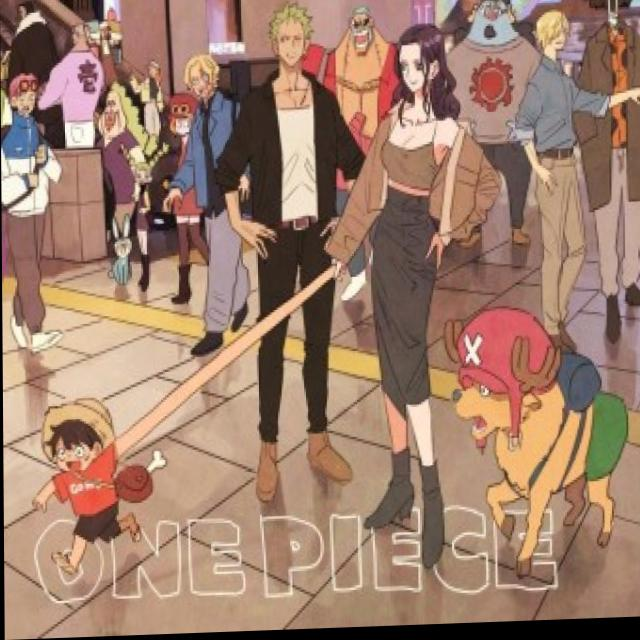Blook: (581, 0, 640, 36)
Chyopa: (437, 298, 632, 568)
Franky: (337, 4, 387, 63)
NicoRobin: (379, 29, 461, 134)
Sangdi: (512, 9, 588, 319)
Zoro: (254, 2, 331, 87)
